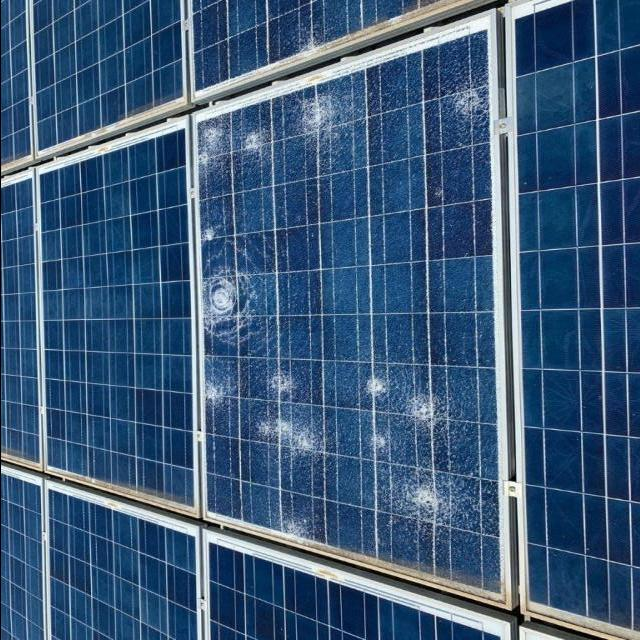cracked: (192, 3, 510, 605)
